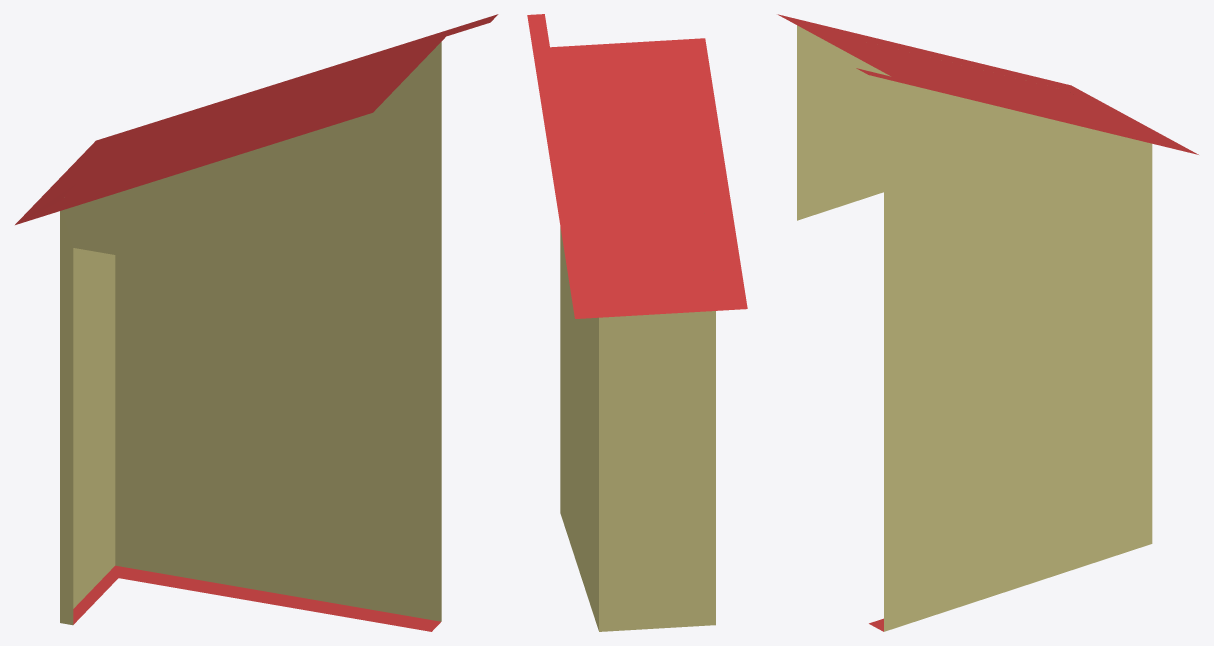
3 views of the same model, side by side, from view 1: azimuth 30°, elevation 25°; view 2: azimuth 150°, elevation 25°; view 3: azimuth 270°, elevation 25° (orthographic). The views are drawn at different scales.
Size of the model in its own units: 6.24 by 6.26 by 9.46.
